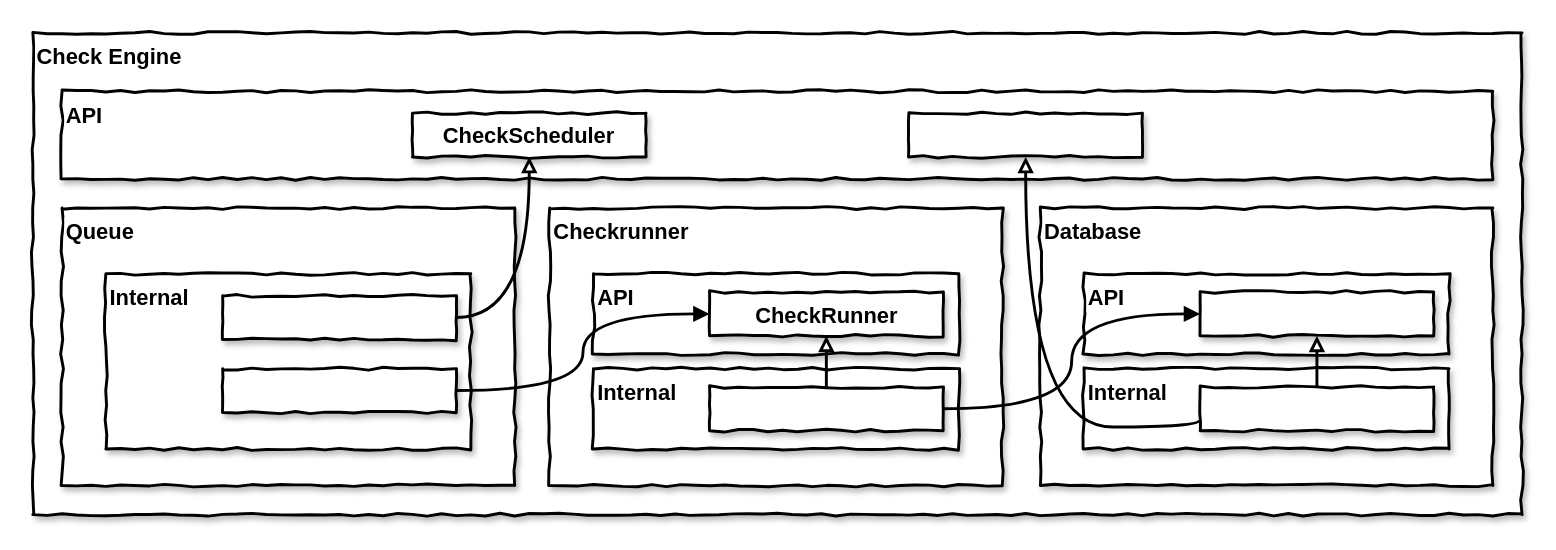
Image size: 1556x550. Some labels were removed from this diagram. Here are the shapes that lost their labels. From the top down, the centre of each, then its label:
[1026,136]: CheckQueries
[340,319]: SqsCheckScheduler
[1317,315]: CheckMutations
[340,392]: CheckRequestListener
[827,410]: DefaultCheckRunner
[1317,410]: CheckRepository
